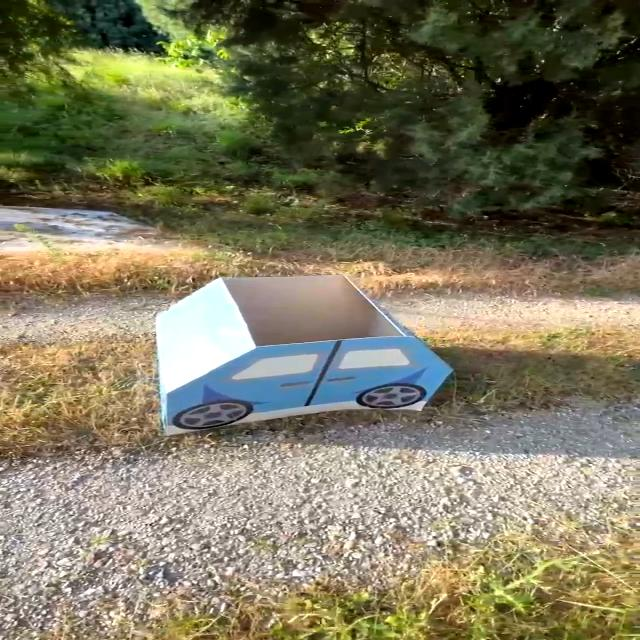blue_car: (56, 204, 523, 451)
